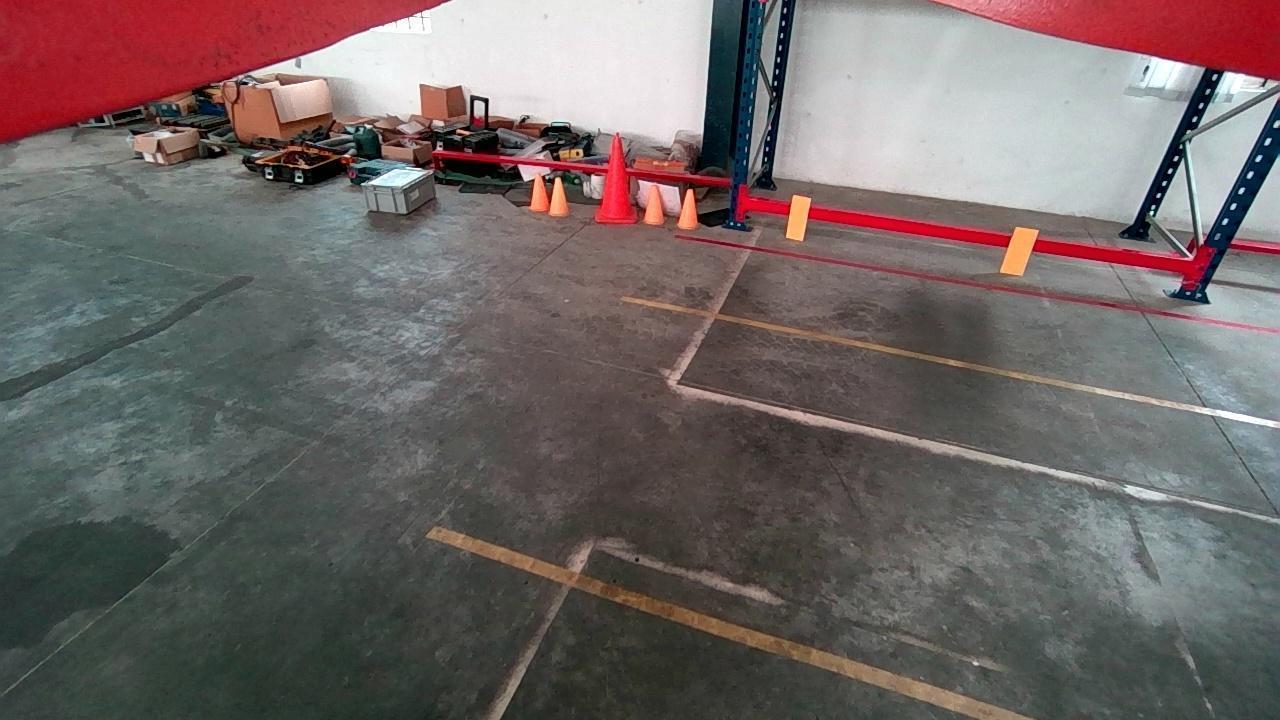red_line: (674, 229, 1279, 335)
yellow_line: (424, 524, 1037, 720), (618, 292, 1280, 432)
